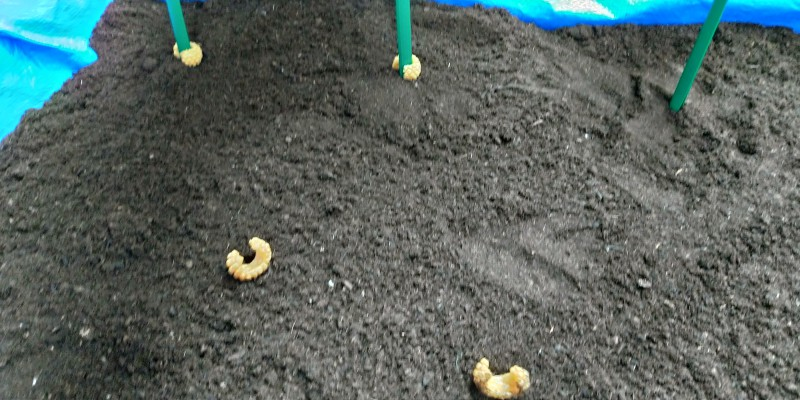eggs: (465, 353, 537, 400), (220, 234, 272, 280), (387, 46, 422, 84), (170, 36, 205, 69)
